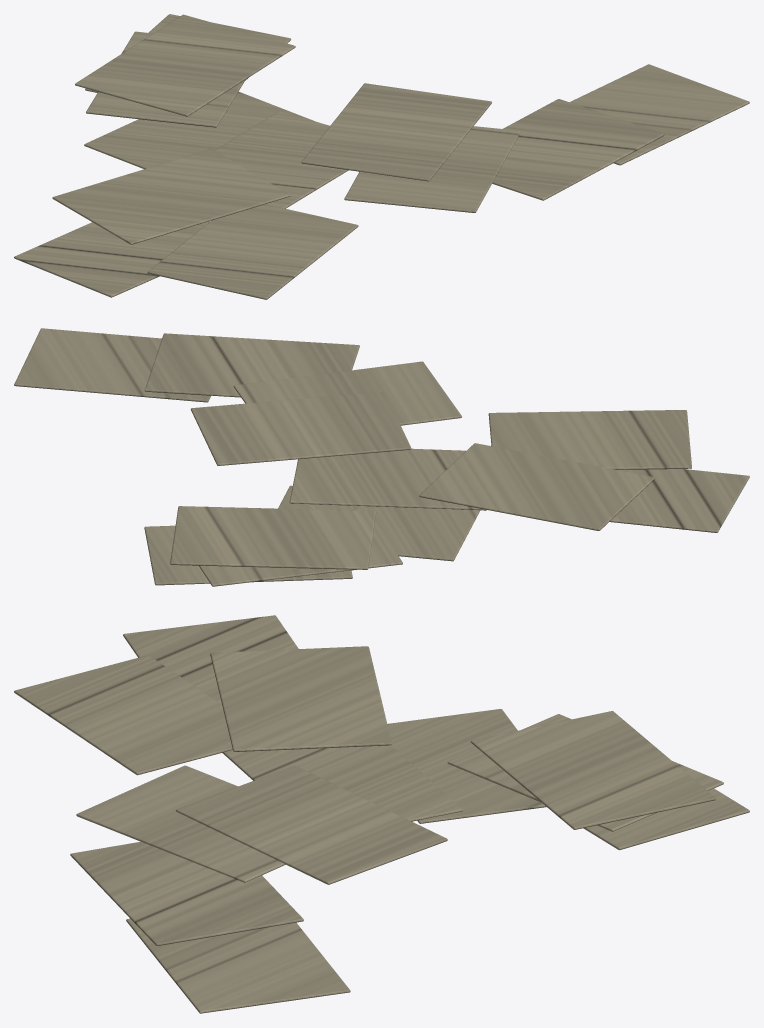
Rendered from PROP-981E2FAE23CB_lod0.glb.
3 views of the same model, one above another, from view 1: azimuth 30°, elevation 25°; view 2: azimuth 150°, elevation 25°; view 3: azimuth 270°, elevation 25° (orthographic). The views are drawn at different scales.
Parts seen in each view (by area): view 1: loose_paper; view 2: loose_paper; view 3: loose_paper.
Part boxes in pixels (<box>): loose_paper: <box>14,14,749,299</box>; loose_paper: <box>14,328,749,586</box>; loose_paper: <box>14,615,749,1013</box>.
Bounding box in the file's own units: 1.32 × 0.037 × 1.01.
Materials: 1 (1 with a texture image).
